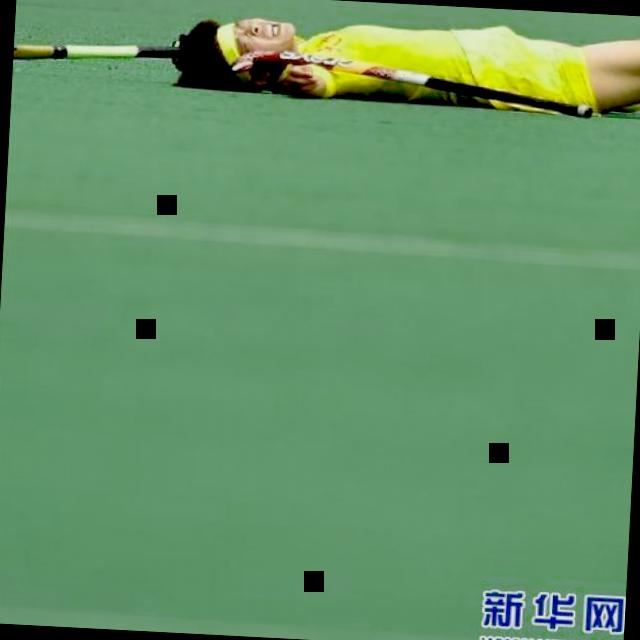Fall-Detected: (177, 0, 640, 122)
